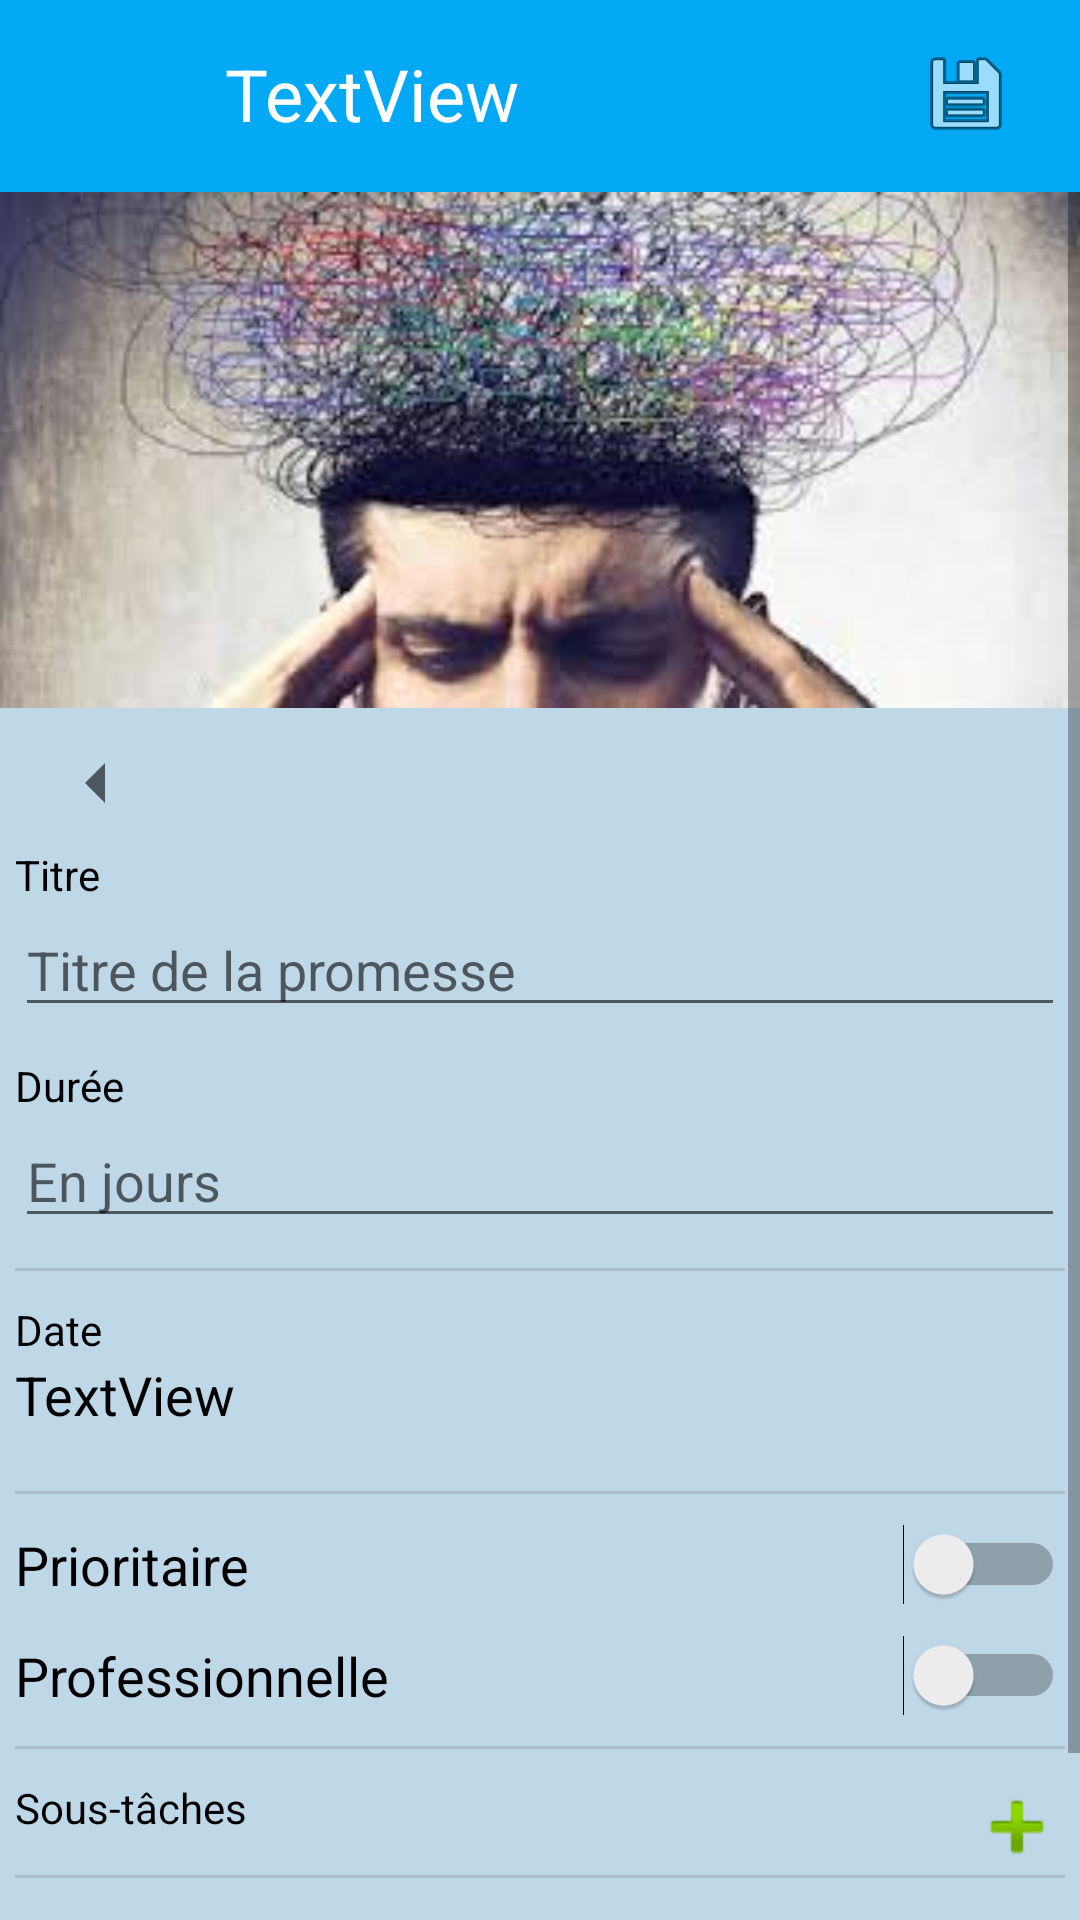

Named icons in this screenshot (1080 x 1920) and their centers, point (x, y):
add: point (1017, 1827)
previous: point (95, 783)
save: point (966, 93)
